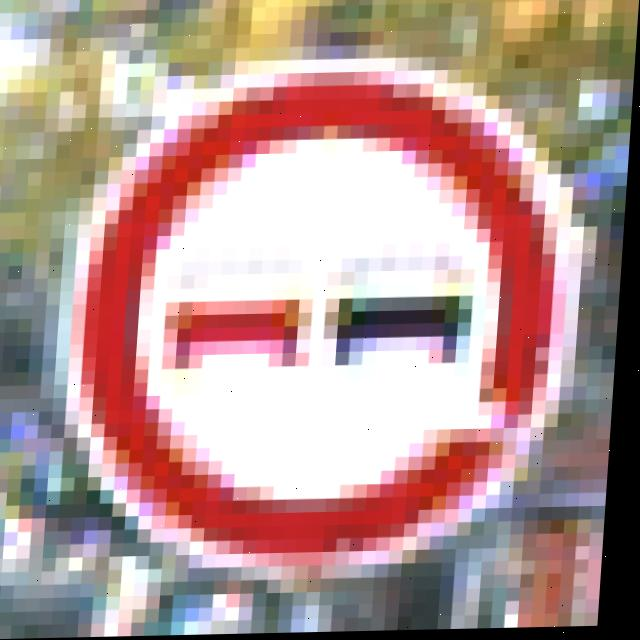no_overtaking: (77, 66, 573, 563)
